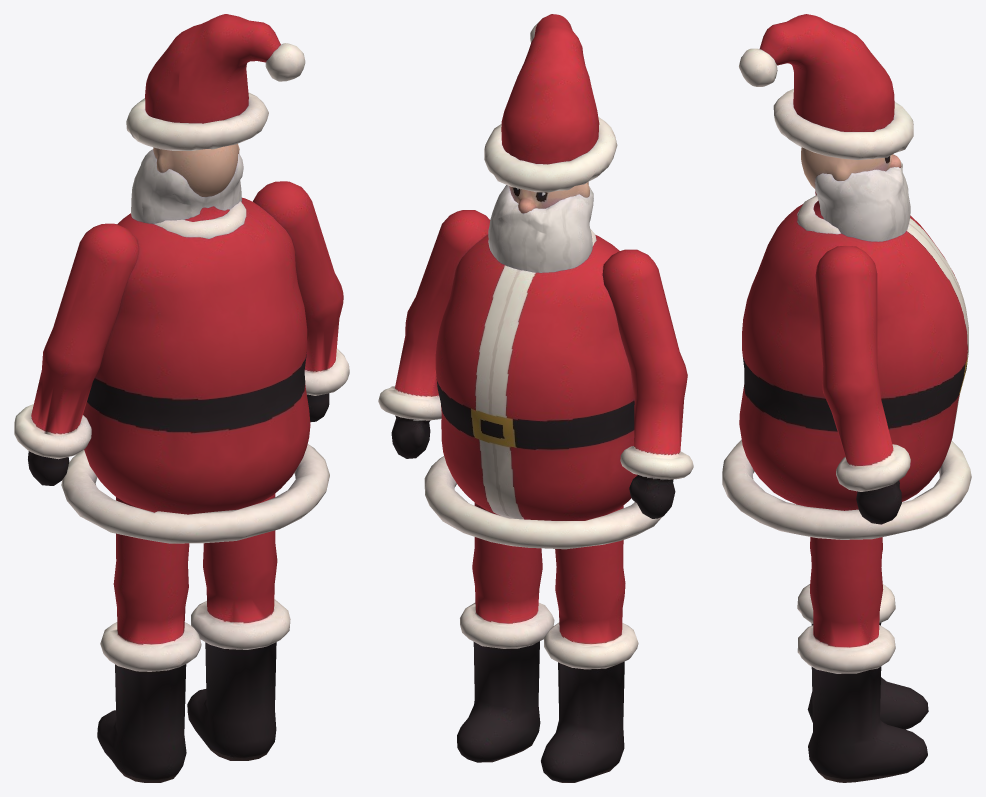
File: santa.glb
3 views of the same model, side by side, from view 1: azimuth 30°, elevation 25°; view 2: azimuth 150°, elevation 25°; view 3: azimuth 270°, elevation 25° (orthographic). The views are drawn at different scales.
Visible parts, largest first — view 1: Body_Coat, LegL_Mesh, LegR_Mesh, ArmL_Mesh, Body_Fur, Head_Hat_Cap, ArmR_Mesh, Head_Beard, Head_Hat_Fur, Head_Skin, Head_Hat_Pom; view 2: Body_Coat, LegL_Mesh, LegR_Mesh, ArmL_Mesh, Head_Hat_Cap, ArmR_Mesh, Body_Fur, Head_Beard, Head_Hat_Fur, Head_Skin; view 3: Body_Coat, LegR_Mesh, ArmR_Mesh, Head_Hat_Cap, Body_Fur, Head_Beard, Head_Hat_Fur, LegL_Mesh, Head_Skin, Head_Hat_Pom.
Boxes of the visible parts, x1=… form: Body_Coat: x1=83, y1=197, x2=310, y2=514; LegL_Mesh: x1=97, y1=497, x2=201, y2=782; LegR_Mesh: x1=187, y1=494, x2=290, y2=760; ArmL_Mesh: x1=14, y1=223, x2=138, y2=485; Body_Fur: x1=61, y1=201, x2=329, y2=543; Head_Hat_Cap: x1=145, y1=14, x2=280, y2=123; ArmR_Mesh: x1=253, y1=181, x2=349, y2=422; Head_Beard: x1=131, y1=149, x2=243, y2=223; Head_Hat_Fur: x1=126, y1=92, x2=268, y2=150; Head_Skin: x1=153, y1=144, x2=239, y2=196; Head_Hat_Pom: x1=265, y1=43, x2=305, y2=81; Body_Coat: x1=435, y1=234, x2=637, y2=520; LegL_Mesh: x1=541, y1=505, x2=638, y2=782; LegR_Mesh: x1=457, y1=503, x2=554, y2=762; ArmL_Mesh: x1=602, y1=249, x2=693, y2=518; Head_Hat_Cap: x1=501, y1=14, x2=599, y2=164; ArmR_Mesh: x1=378, y1=210, x2=490, y2=458; Body_Fur: x1=424, y1=229, x2=661, y2=549; Head_Beard: x1=488, y1=185, x2=593, y2=272; Head_Hat_Fur: x1=484, y1=117, x2=617, y2=192; Head_Skin: x1=509, y1=182, x2=589, y2=213; Body_Coat: x1=739, y1=200, x2=968, y2=510; LegR_Mesh: x1=797, y1=537, x2=927, y2=782; ArmR_Mesh: x1=815, y1=246, x2=910, y2=524; Head_Hat_Cap: x1=759, y1=14, x2=894, y2=131; Body_Fur: x1=722, y1=195, x2=971, y2=539; Head_Beard: x1=815, y1=162, x2=910, y2=241; Head_Hat_Fur: x1=773, y1=88, x2=913, y2=159; LegL_Mesh: x1=797, y1=539, x2=928, y2=729; Head_Skin: x1=801, y1=147, x2=901, y2=188; Head_Hat_Pom: x1=739, y1=48, x2=777, y2=86.
Size of the model in its own units: 0.8074 by 1.8 by 0.5486.
1 material, 1 textured.
